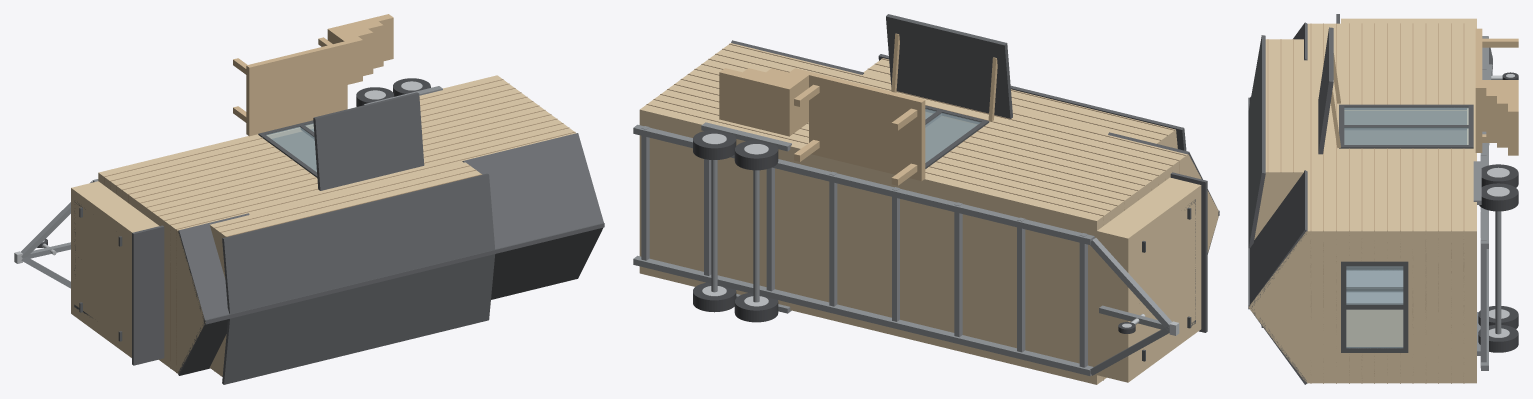
The model's file is tiny_house_retro730.glb.
3 renders of one model, left to right at view 1: azimuth 30°, elevation 25°; view 2: azimuth 150°, elevation 25°; view 3: azimuth 270°, elevation 25°, orthographic. The views are drawn at different scales.
Visible parts, largest first — view 1: Roof_All_Sections, Wall_Entry_Side, Front_Storage_Box, Entry_Canopy, Entry_Deck, Siding_Entry_Side, Raised_Wall_Entry_Side, Front_Storage_Roof, Entry_Stairs, Wall_Front, Gable_Front, Roof_Ridge_Caps (+8 smaller); view 2: House_Floor, Wall_Entry_Side, Trailer_Chassis, Front_Storage_Box, Entry_Deck, Entry_Canopy, Siding_Entry_Side, Entry_Stairs, Trailer_Tires, Raised_Wall_Entry_Side, Wall_Window_Side, Roof_All_Sections (+12 smaller); view 3: Wall_Entry_Side, Wall_Rear, Roof_All_Sections, Raised_Wall_Entry_Side, Gable_Rear, Rear_Window_Glass, Double_Entry_Door_Glass, Door_Interior_Shadow, Wall_Window_Side, Siding_Entry_Side, House_Floor, Entry_Stairs (+19 smaller).
Part boxes in pixels (x1,y1,x2,y2): Roof_All_Sections: (177, 133, 603, 384); Wall_Entry_Side: (98, 75, 575, 237); Front_Storage_Box: (71, 181, 159, 357); Entry_Canopy: (313, 92, 424, 190); Entry_Deck: (246, 41, 347, 136); Siding_Entry_Side: (104, 79, 575, 229); Raised_Wall_Entry_Side: (210, 162, 480, 240); Front_Storage_Roof: (132, 225, 164, 365); Entry_Stairs: (327, 14, 393, 84); Wall_Front: (100, 171, 181, 371); Gable_Front: (178, 231, 205, 373); Roof_Ridge_Caps: (204, 223, 604, 324); House_Floor: (639, 105, 1101, 384); Wall_Entry_Side: (640, 43, 1188, 228); Trailer_Chassis: (633, 124, 1171, 376); Front_Storage_Box: (1097, 177, 1201, 382); Entry_Deck: (809, 72, 925, 181); Entry_Canopy: (886, 14, 1012, 118); Siding_Entry_Side: (646, 43, 1186, 216); Entry_Stairs: (719, 68, 812, 136); Trailer_Tires: (693, 130, 778, 322); Raised_Wall_Entry_Side: (863, 58, 1175, 144); Wall_Window_Side: (639, 266, 1106, 384); Roof_All_Sections: (731, 40, 1218, 254); Wall_Entry_Side: (1306, 23, 1476, 238); Wall_Rear: (1306, 227, 1476, 383); Roof_All_Sections: (1248, 22, 1307, 384); Raised_Wall_Entry_Side: (1264, 39, 1306, 179); Gable_Rear: (1249, 232, 1306, 381); Rear_Window_Glass: (1346, 266, 1403, 348); Double_Entry_Door_Glass: (1344, 107, 1468, 144); Door_Interior_Shadow: (1344, 111, 1466, 144); Wall_Window_Side: (1306, 310, 1476, 383); Siding_Entry_Side: (1310, 23, 1464, 231); House_Floor: (1467, 23, 1476, 383); Entry_Stairs: (1475, 80, 1518, 155).
Size of the model in its own units: 8.7 by 3.73 by 4.02.
